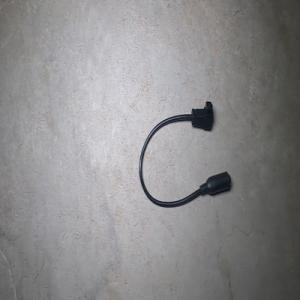Wire: (139, 101, 231, 207)
